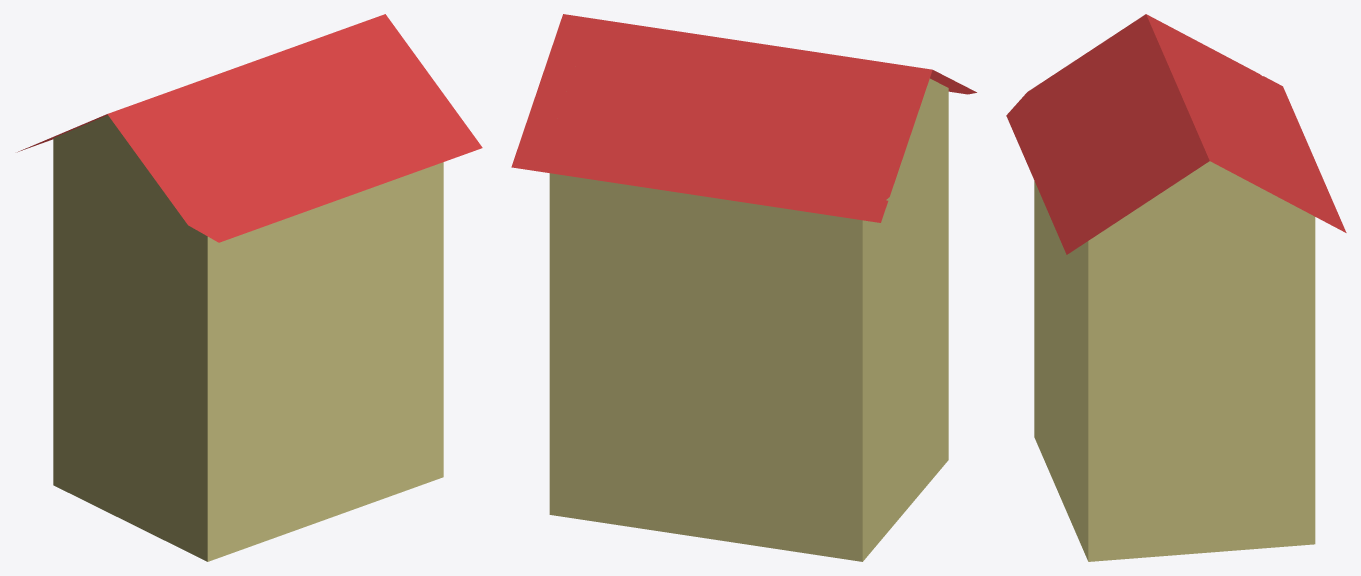
The picture shows the model from 3 angles, left to right: view 1: azimuth 30°, elevation 25°; view 2: azimuth 150°, elevation 25°; view 3: azimuth 270°, elevation 25°; orthographic projection. The views are drawn at different scales.
Size of the model in its own units: 11.1 by 9.46 by 12.36.
